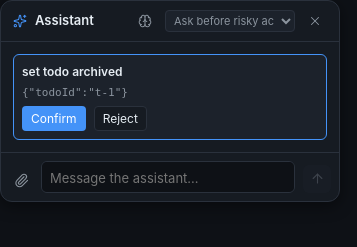
Test: AssistantPane › confirms a proposed action
Check: the text "set todo archived" is shown, box [22, 64, 122, 79]
Check: the text "{\"todoId\":\"t-1\"}" is shown, box [22, 86, 128, 99]
What coordinates should you click on to do the following:
click the button "Confirm"
I would click on:
 (54, 118)
Its box is [22, 106, 86, 130].
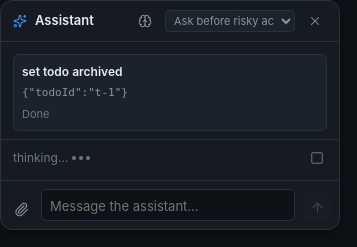
Check: the button "Confirm" is gone
Check: the message reads "thinking…", box [13, 150, 68, 165]
